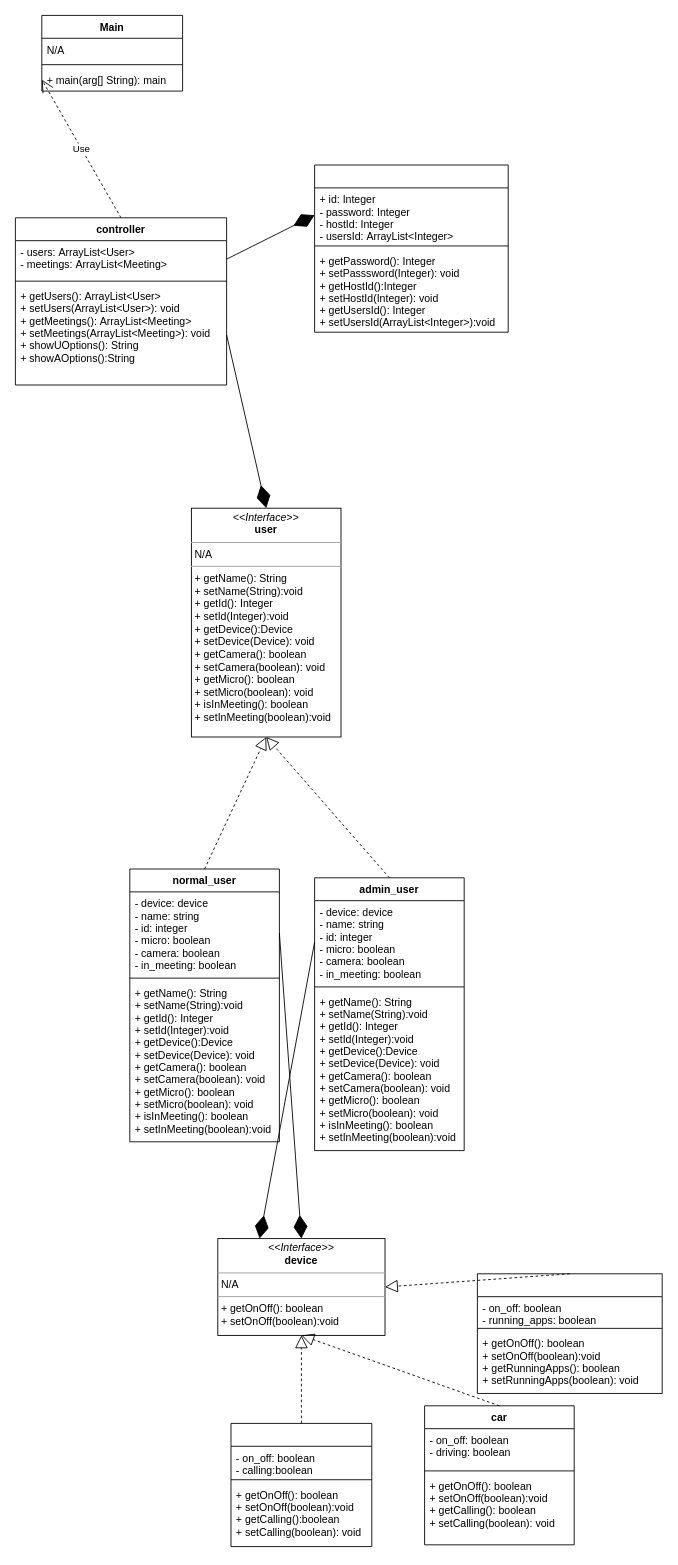
This 678x1565 diagram has some shape labels left out. Here are the shapes that lost their labels. From the top down, the box of each, then its label:
(314, 164, 508, 332): meeting
(477, 1273, 662, 1393): tablet
(230, 1423, 372, 1547): cel
